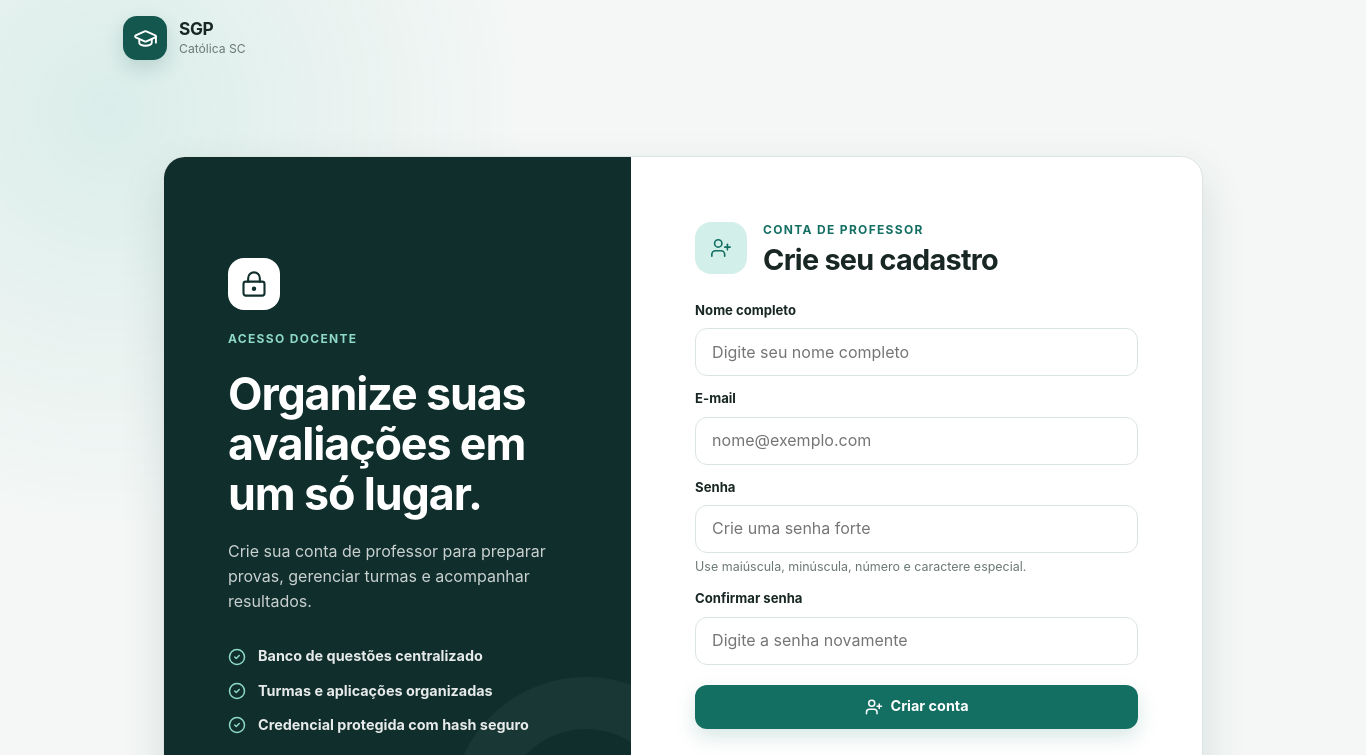
Test: tela de cadastro de professor › não envia e-mail com domínio malformado
Step 1. Type "Maria da Silva" into the field with id "full-name" → point(917, 352), box x1=695 y1=328 x2=1138 y2=376
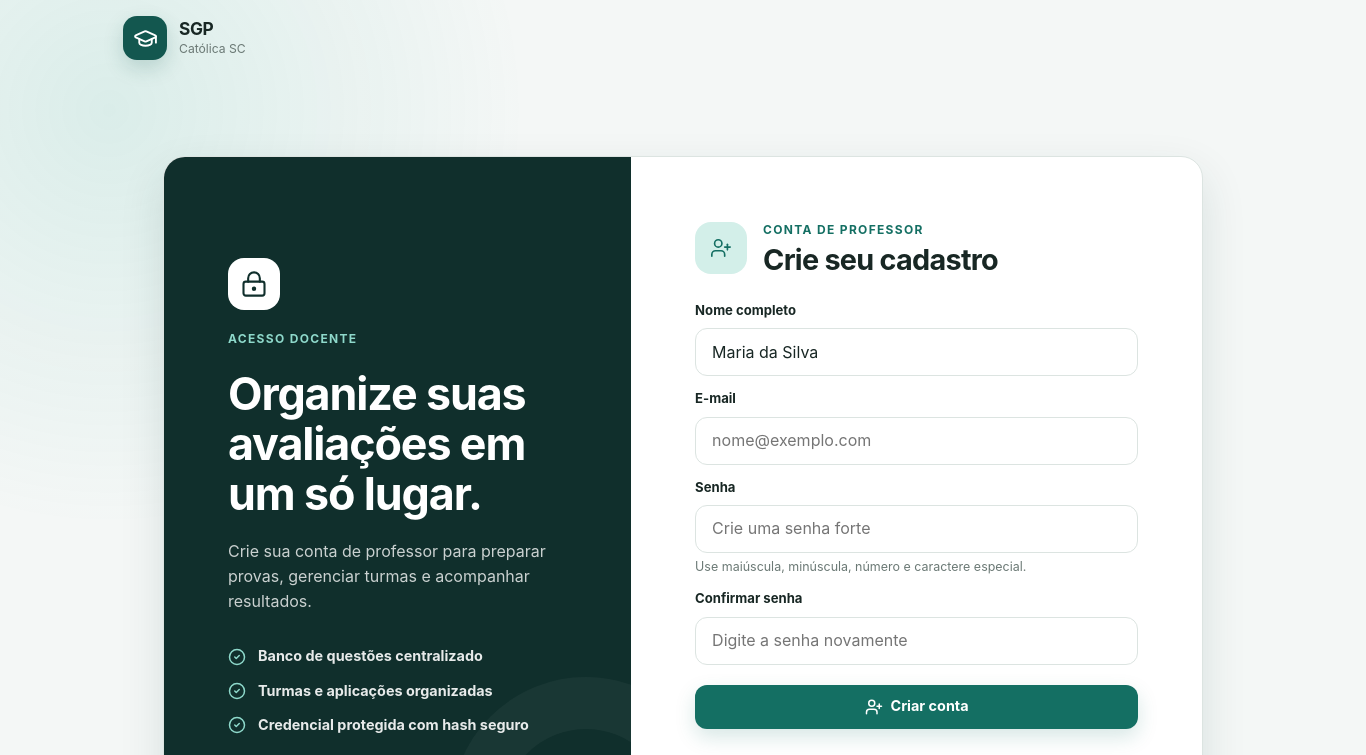
Step 2. Type "maria@example.com" into the field with id "email" → point(917, 440), box x1=695 y1=416 x2=1138 y2=464
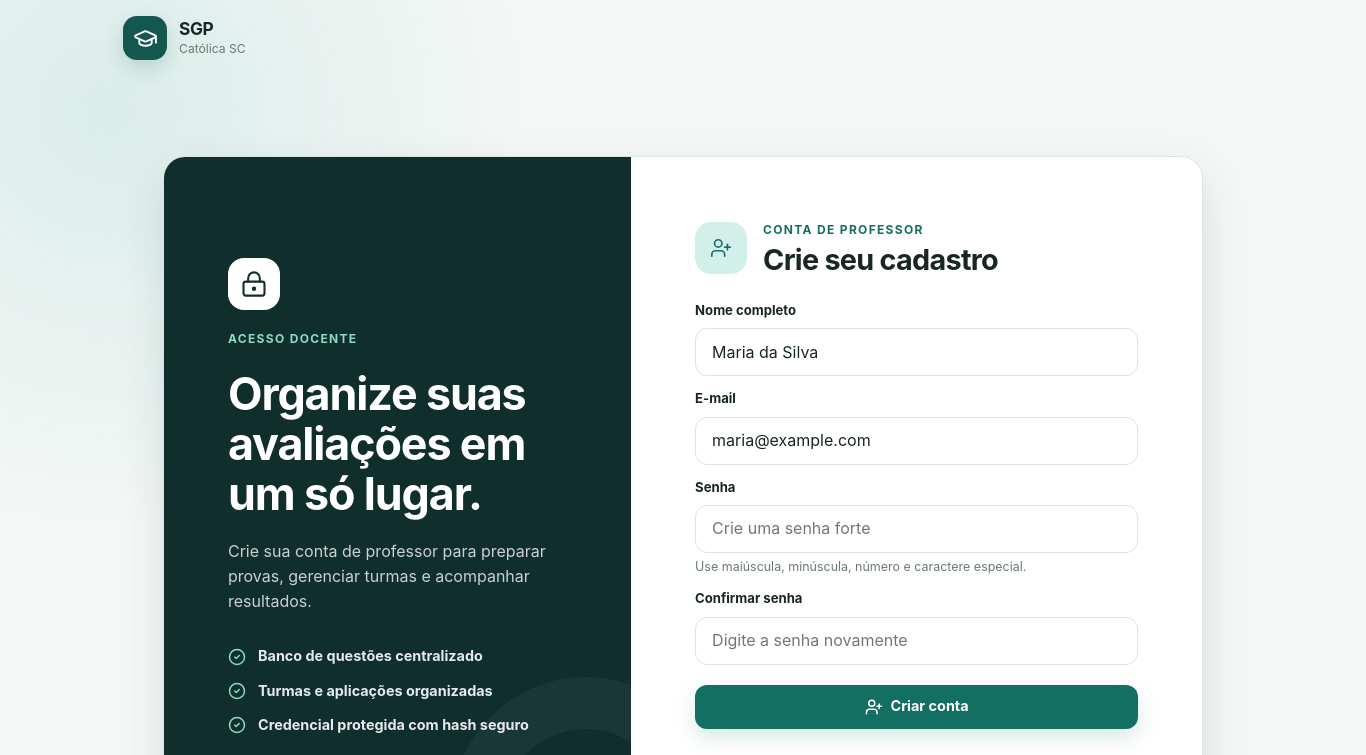
Step 3. Type "Senha#2026Segura" into the password field labelled "Senha" → point(917, 529), box x1=695 y1=505 x2=1138 y2=553
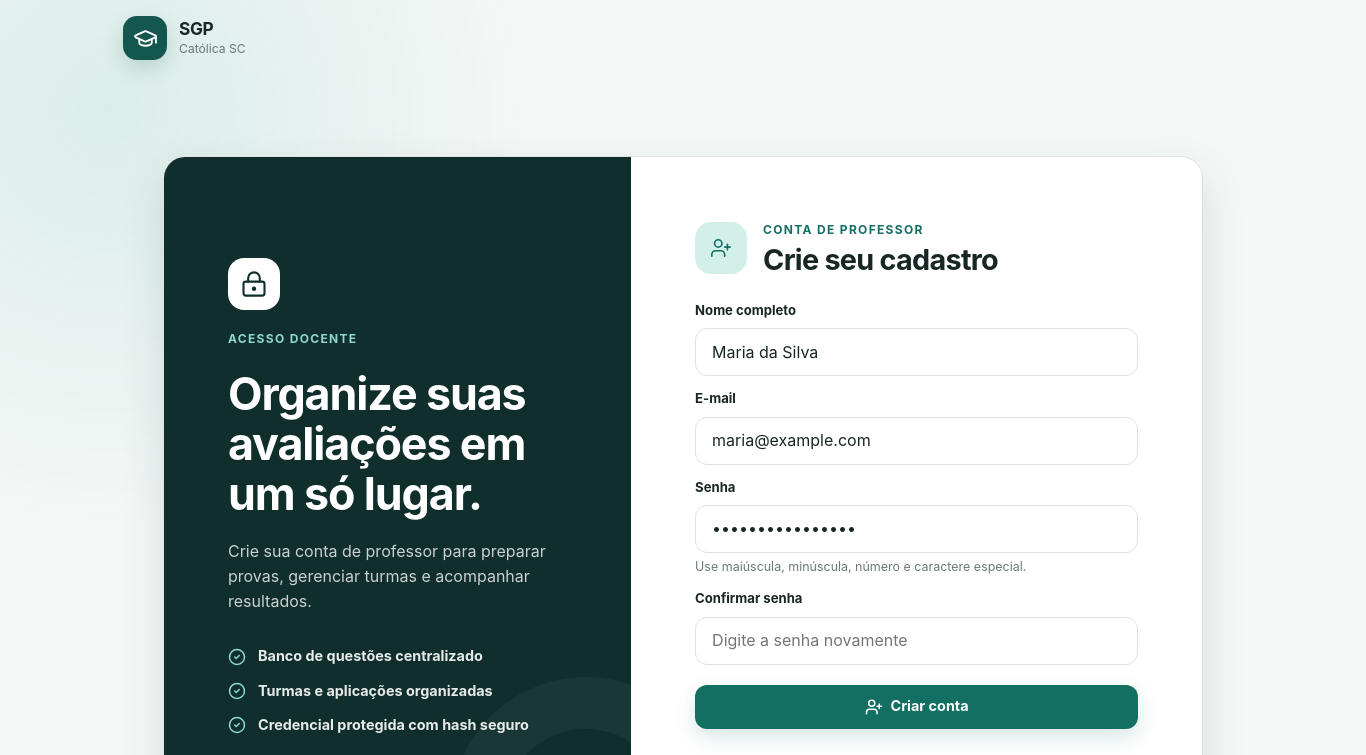
Step 4. Type "Senha#2026Segura" into the password field labelled "Confirmar senha" → point(917, 641), box x1=695 y1=617 x2=1138 y2=665
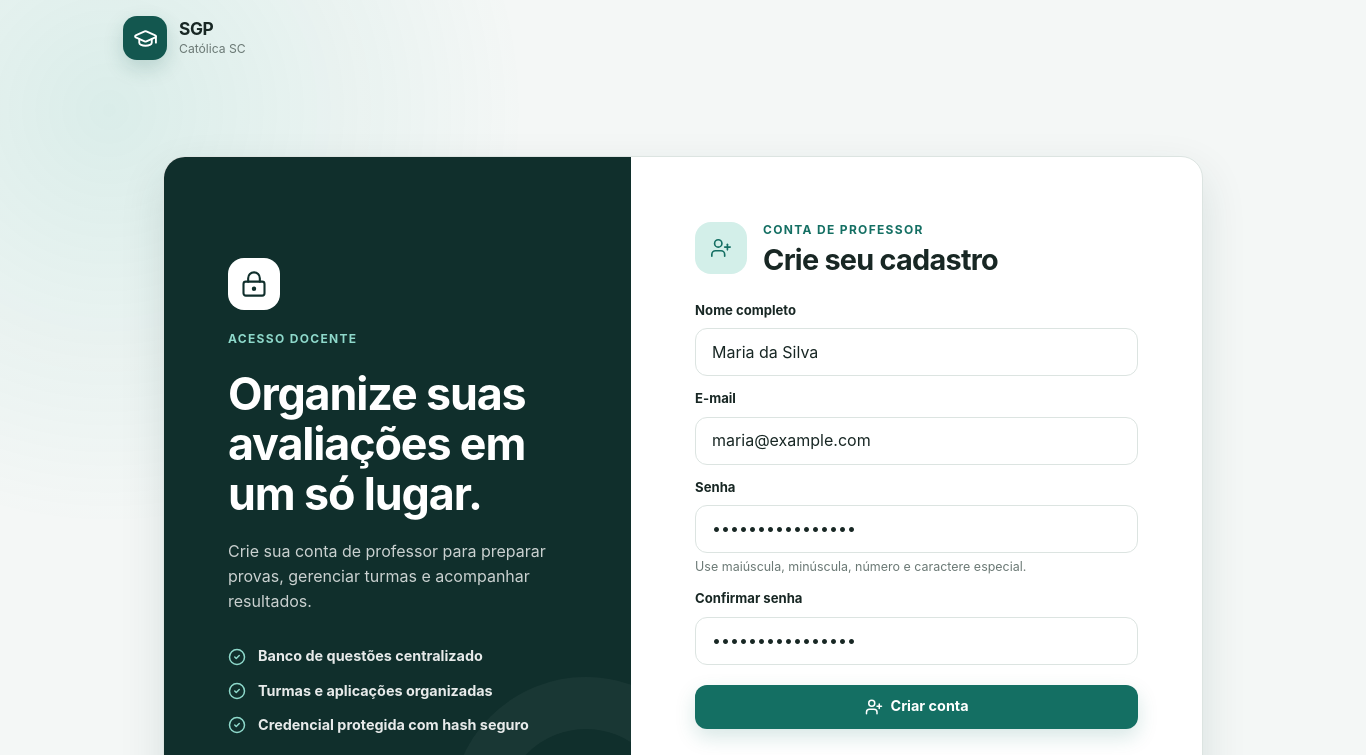
Step 5. Replace the text in the field with id "email" with "maria@example..com" → point(917, 440), box x1=695 y1=416 x2=1138 y2=464
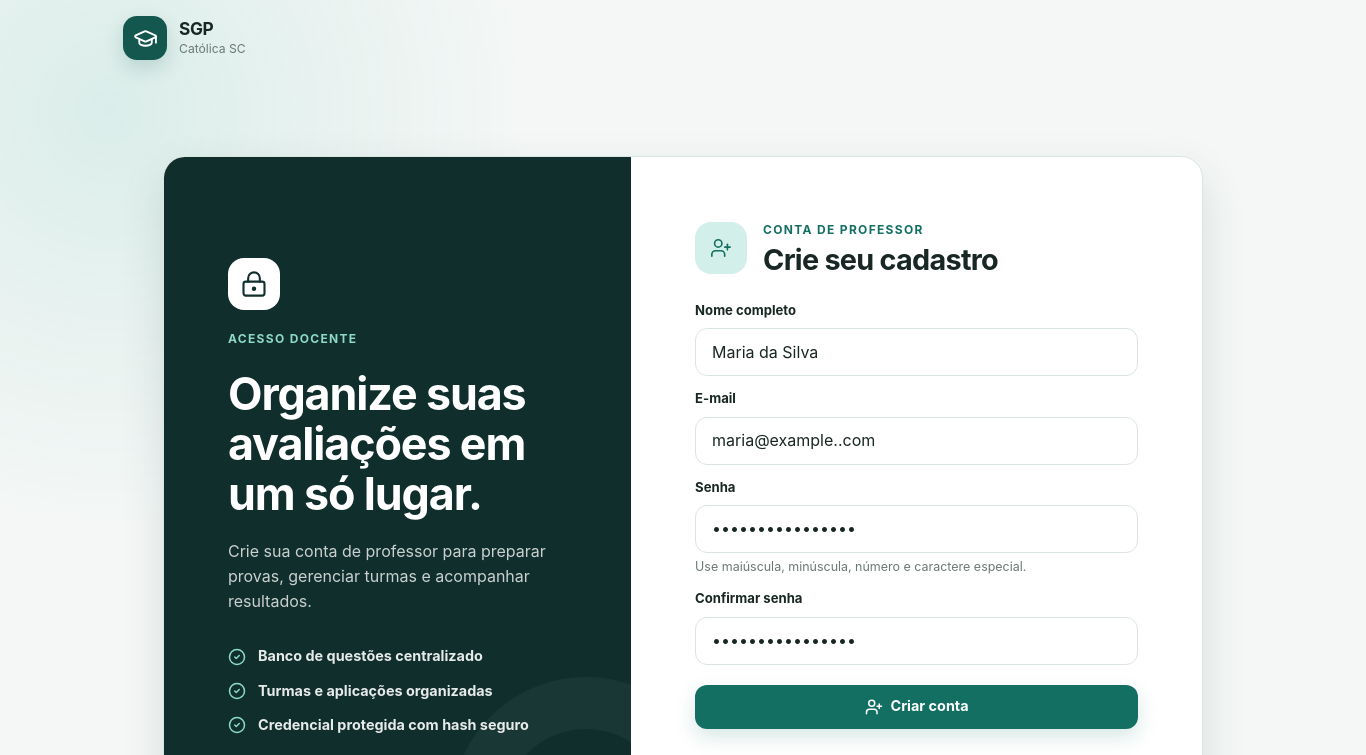
Step 6. Submit the form, box x1=695 y1=300 x2=1138 y2=728
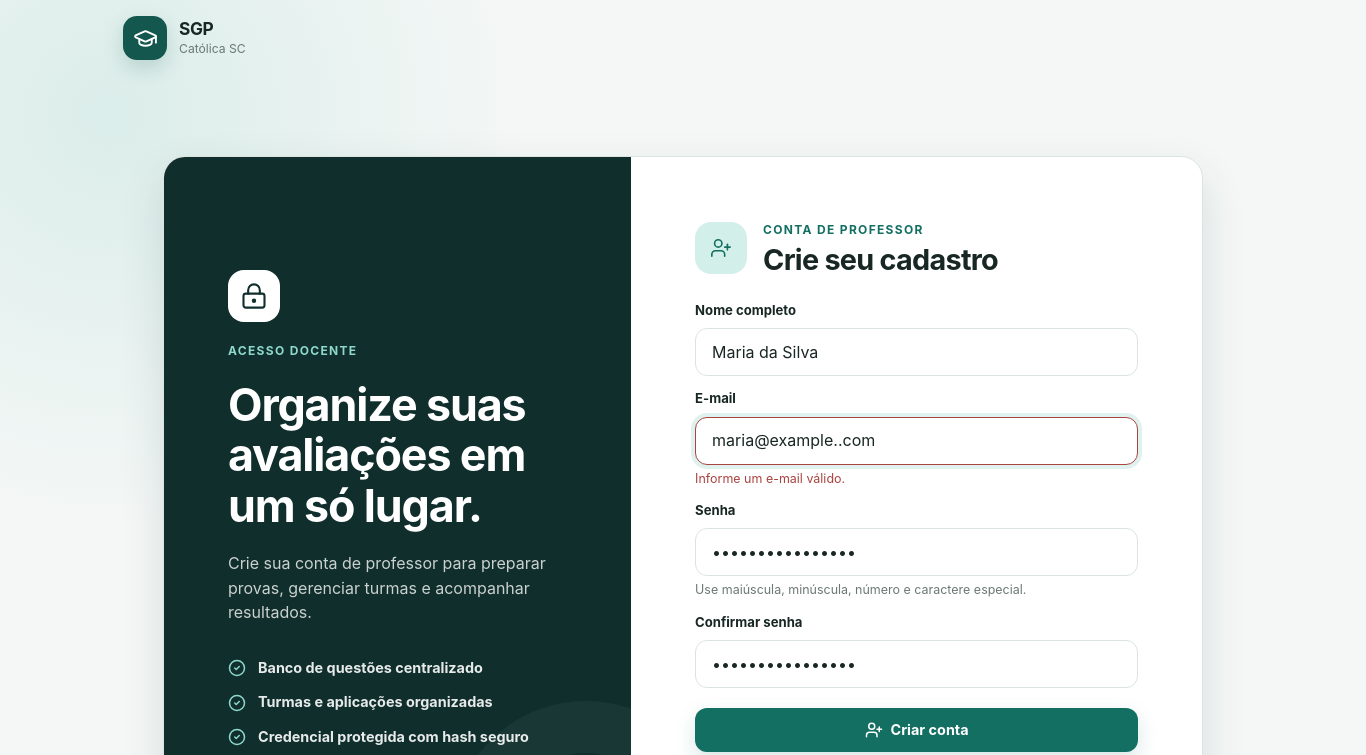
expect the text "Informe um e-mail válido" is shown: met, box x1=695 y1=470 x2=845 y2=486
